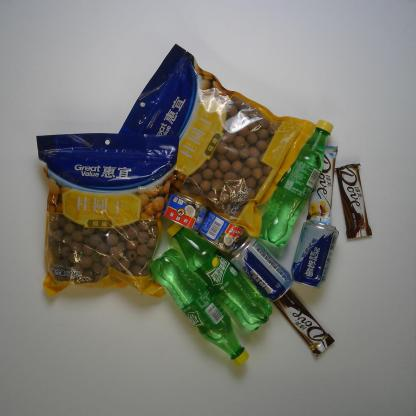Alcohol: (230, 236, 292, 305), (289, 219, 341, 286)
Canned Food: (155, 187, 210, 231), (200, 208, 243, 253)
Chocolate: (267, 282, 335, 357), (338, 162, 373, 245), (305, 143, 337, 230)
Dried Food: (117, 42, 321, 241), (33, 126, 169, 304)
Drink: (148, 249, 256, 371), (166, 221, 269, 333), (254, 116, 337, 250)
